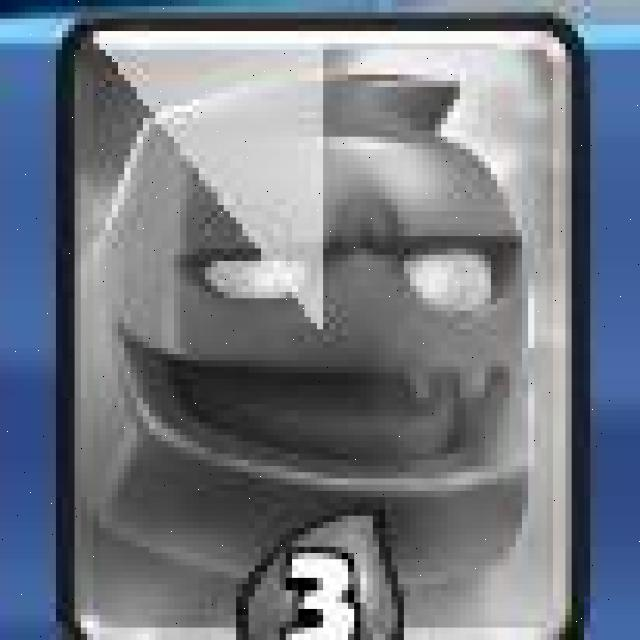Elixir_Golem: (64, 21, 576, 640)
